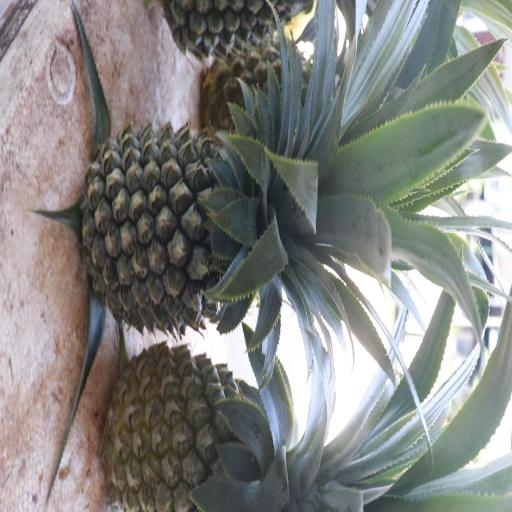------------------------------: (109, 345, 289, 512)
